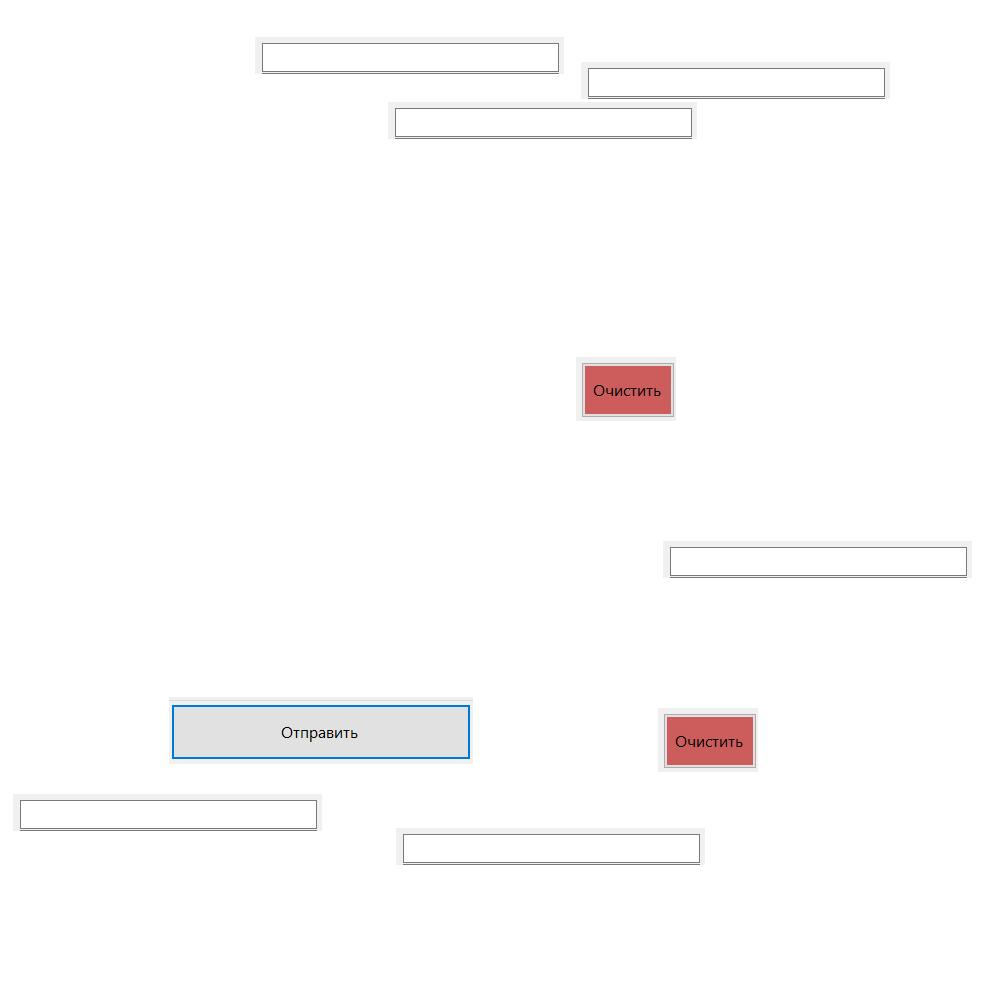Button: (169, 697, 473, 764), (576, 357, 676, 421), (658, 708, 758, 772)
EditText-: (663, 541, 972, 578), (581, 62, 890, 99), (388, 102, 697, 139), (396, 828, 705, 865), (13, 794, 322, 831), (255, 37, 564, 74)
